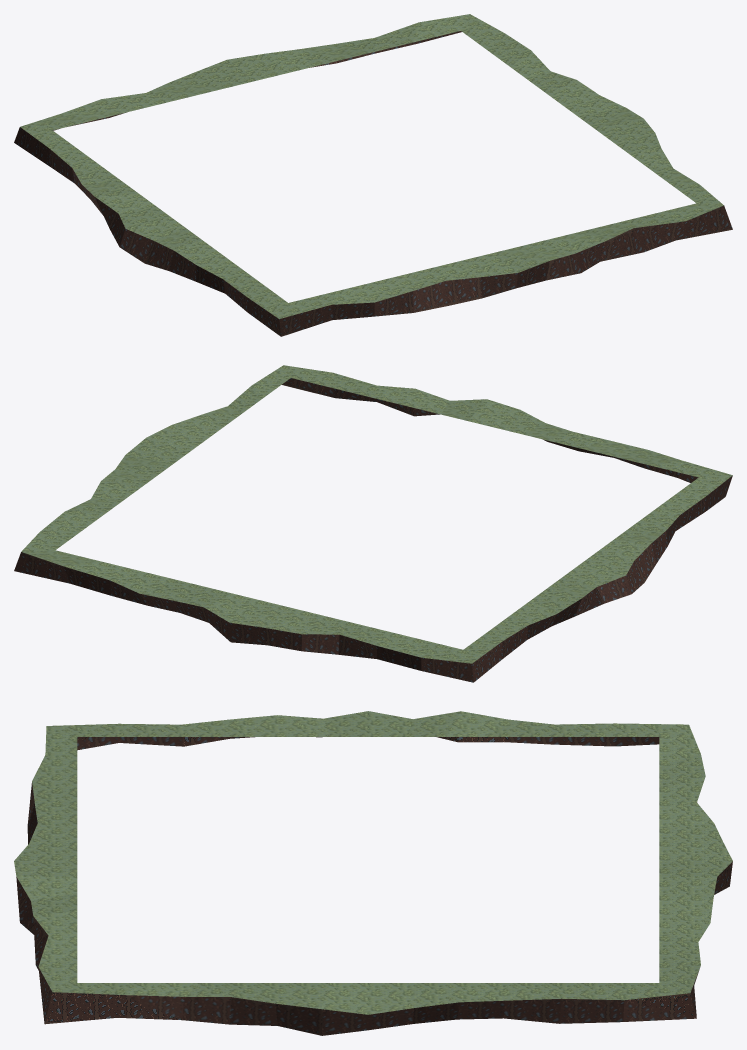
The model's file is entorno_18.glb.
3 renders of one model, top to bottom at view 1: azimuth 30°, elevation 25°; view 2: azimuth 150°, elevation 25°; view 3: azimuth 270°, elevation 25°, orthographic. The views are drawn at different scales.
Visible parts, largest first — view 1: bosque_entorno_18; view 2: bosque_entorno_18; view 3: bosque_entorno_18.
Boxes of the visible parts, bbox=[...] form: bosque_entorno_18: bbox=[14, 14, 732, 336]; bosque_entorno_18: bbox=[14, 365, 732, 682]; bosque_entorno_18: bbox=[14, 711, 732, 1035].
Bounding box in the file's own units: 22.6 × 1.07 × 22.49.
2 materials, 2 textured.
